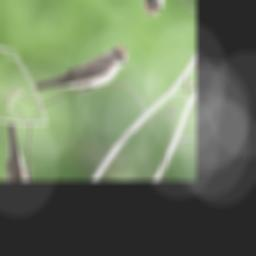Swallow: (31, 13, 133, 126)
